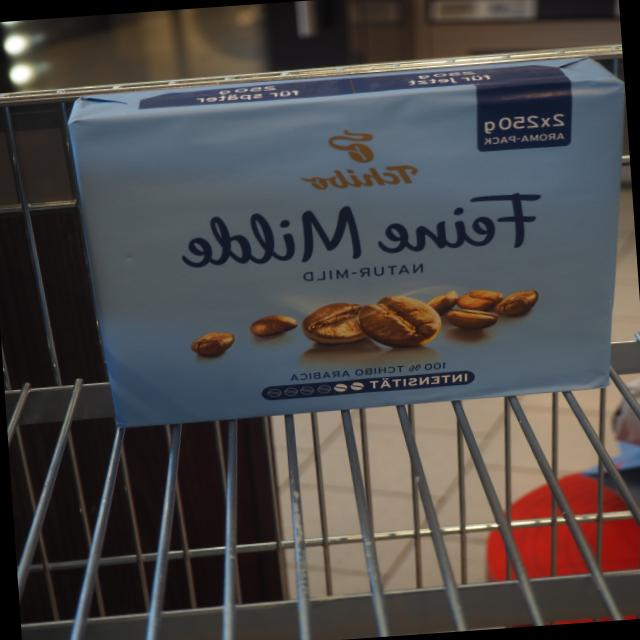FM Gemahlen: (54, 46, 622, 437)
